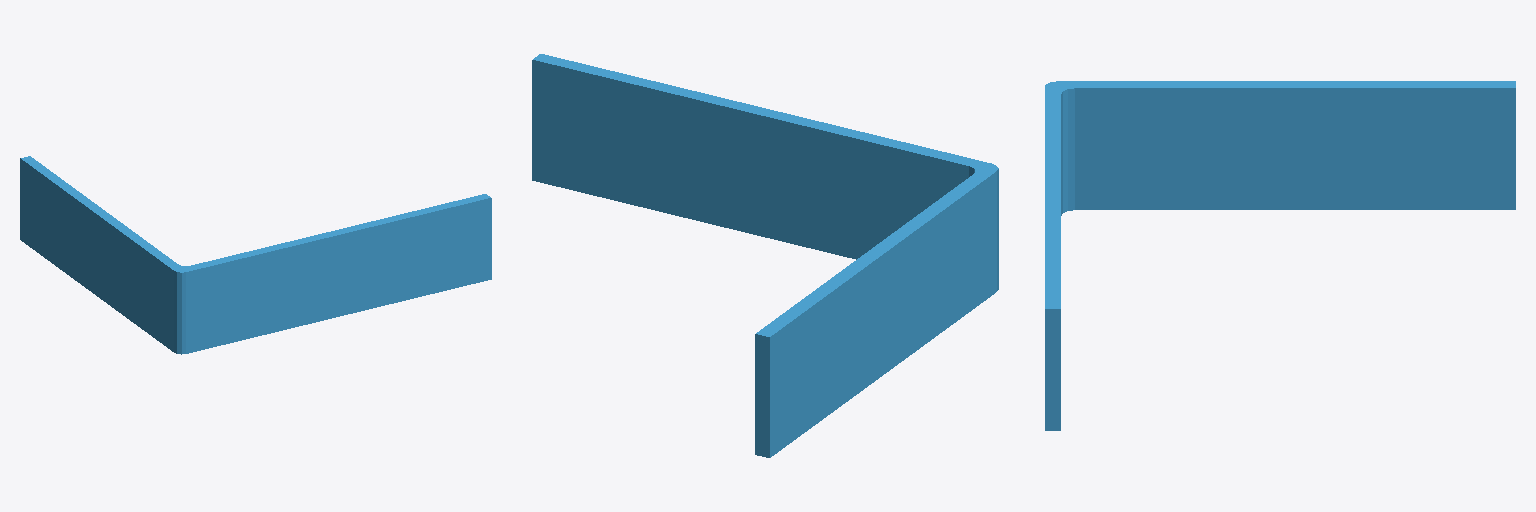
URDF robot description (l_block):
<?xml version="1.0"?>
<robot name="l_block">
	<gazebo>
        <plugin name="gazebo_ros_control" filename="libgazebo_ros_control.so">
            <robotNamespace>/l_block</robotNamespace>
        </plugin>
    </gazebo>
    <link name="base_link">
    	<inertial>
    		<origin xyz="0 0 0" rpy="0 0 0"/>
    		<mass value = "0.0000006" />
    		<inertia ixx="9.99e-14" ixy="0.0" ixz="0.0" iyy="9.99e-14" iyz="0.0" izz="9.99e-14"/>
    	</inertial>
    	<collision>
    		<origin xyz="0 0 0" rpy="0 0 0"/>
    		<geometry>
				<box size="0.001 0.001 0.001" />
    		</geometry>
    	</collision>
    	<visual>
			<orgin xyz="0 0 0" rpy="0 0 0"/>
			<geometry>
				<box size="0.001 0.001 0.001" />
    		</geometry>
    	</visual>
    </link>
    	
	<link name="block">
		<inertial>
			<origin xyz="0 0 0" rpy="0 0 0" />
			<mass value="556.89" />
			<inertia ixx = "1260.25"	ixy = "71.81"	ixz = "308.69" iyy = "1798.88"	iyz = "239.15" 	izz = "2690.28"/>
		</inertial>
		<collision>
		 	 <origin xyz="0 0 0" rpy="0 0 0" />
		 	 <geometry>
		 	 	<mesh filename="package://obstacles/models/meshes/Lblocks.STL" /><!--Lblocks.STL!-->
		 	 </geometry>
		</collision>
		<visual>
			<origin xyz="0 0 0" rpy="0 0 0" />
		 	<geometry>
		 		<mesh filename="package://obstacles/models/meshes/Lblocks.STL" /><!--L_block.stl!-->
		 	</geometry>
		</visual>
	</link>
	<joint name="fxd" type="fixed">
		<parent link="base_link"/>
		<child link="block"/>
		<origin xyz="0 0 0" rpy="0 0 0" />
	</joint>
		
	<gazebo reference="block">
        <kp>100000.0</kp>
        <kd>100000.0</kd>
        <mu1>10.0</mu1>
        <mu2>10.0</mu2>
        <material>Gazebo/PaintedWall</material>
    </gazebo>
</robot>
	
			

--- Render facts (derived) ---
Views: 3 orthographic renders of the robot side by side, from view 1: azimuth 30°, elevation 25°; view 2: azimuth 150°, elevation 25°; view 3: azimuth 270°, elevation 25°.
Model l_block with 2 links and 1 joints (1 fixed), rooted at base_link, posed every joint at zero.
Links seen in each view (by area): view 1: block; view 2: block; view 3: block.
Boxes of the visible links, x1=… form: block: x1=20, y1=156, x2=491, y2=354; block: x1=532, y1=54, x2=998, y2=457; block: x1=1045, y1=81, x2=1515, y2=430.
Size in the robot's own frame: 4 by 3.5 by 1 metres.
1 mesh visuals loaded from 1 distinct referenced files (1 binary STL).